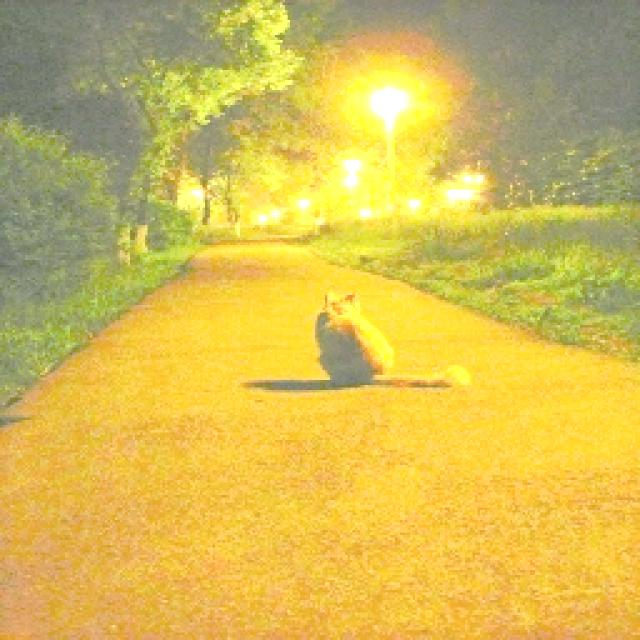cat: (318, 289, 475, 400)
